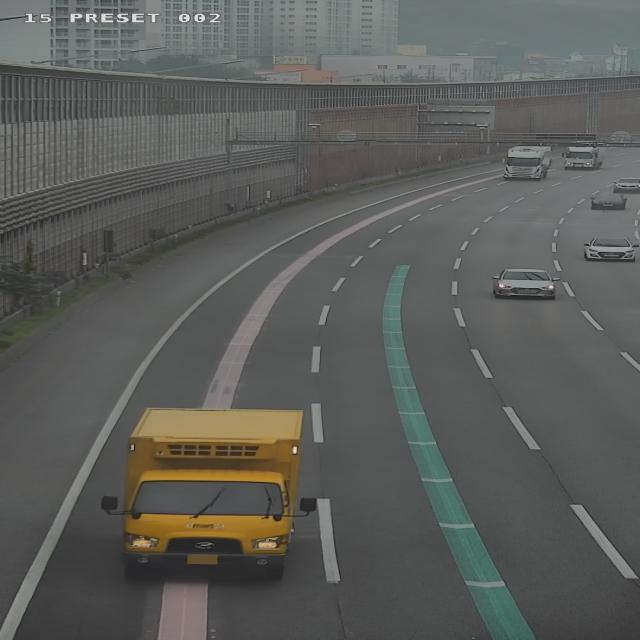Car: (490, 268, 564, 298), (583, 236, 640, 262), (584, 189, 626, 212), (612, 174, 640, 198)
Truck: (101, 407, 322, 585), (501, 146, 552, 180), (562, 143, 604, 170)
